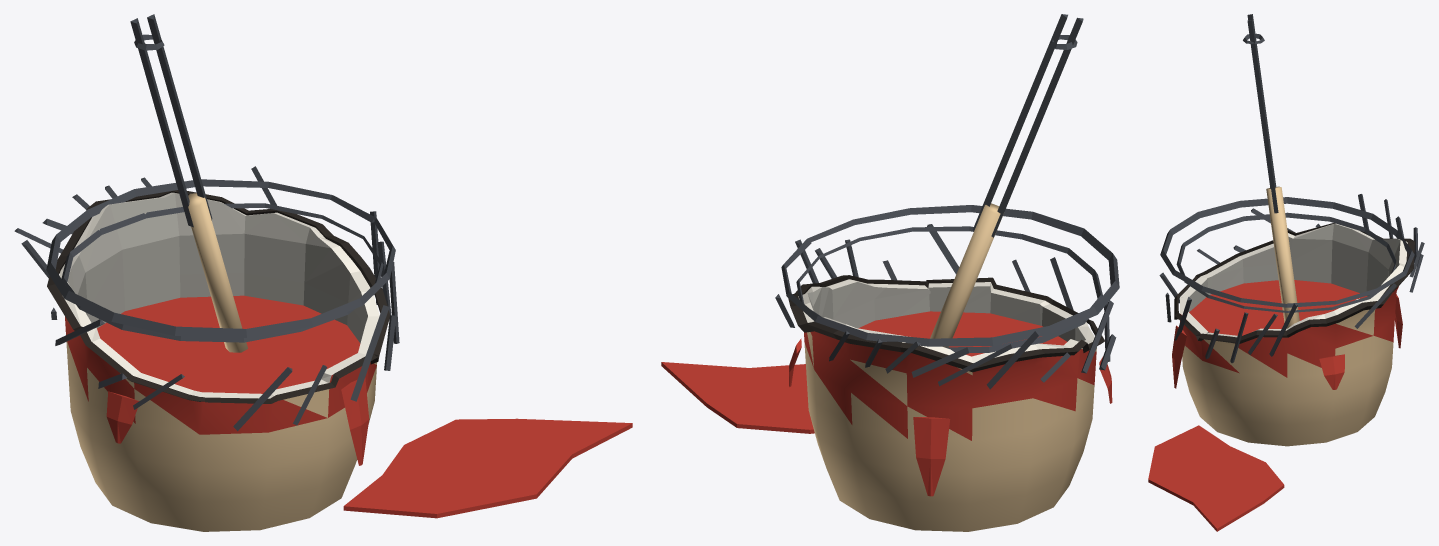
The model's file is PaintPot.fbx.
3 renders of one model, left to right at view 1: azimuth 30°, elevation 25°; view 2: azimuth 150°, elevation 25°; view 3: azimuth 270°, elevation 25°, orthographic. The views are drawn at different scales.
Parts seen in each view (by area): view 1: Pot, Lines; view 2: Pot, Lines; view 3: Pot, Lines.
Part boxes in pixels (x1=…): Pot: x1=59, y1=192, x2=632, y2=531; Lines: x1=14, y1=14, x2=399, y2=431; Pot: x1=661, y1=203, x2=1112, y2=531; Lines: x1=775, y1=14, x2=1119, y2=389; Pot: x1=1148, y1=186, x2=1407, y2=531; Lines: x1=1159, y1=14, x2=1424, y2=363.
Size of the model in its own units: 0.7495 by 0.6996 by 0.4928.
